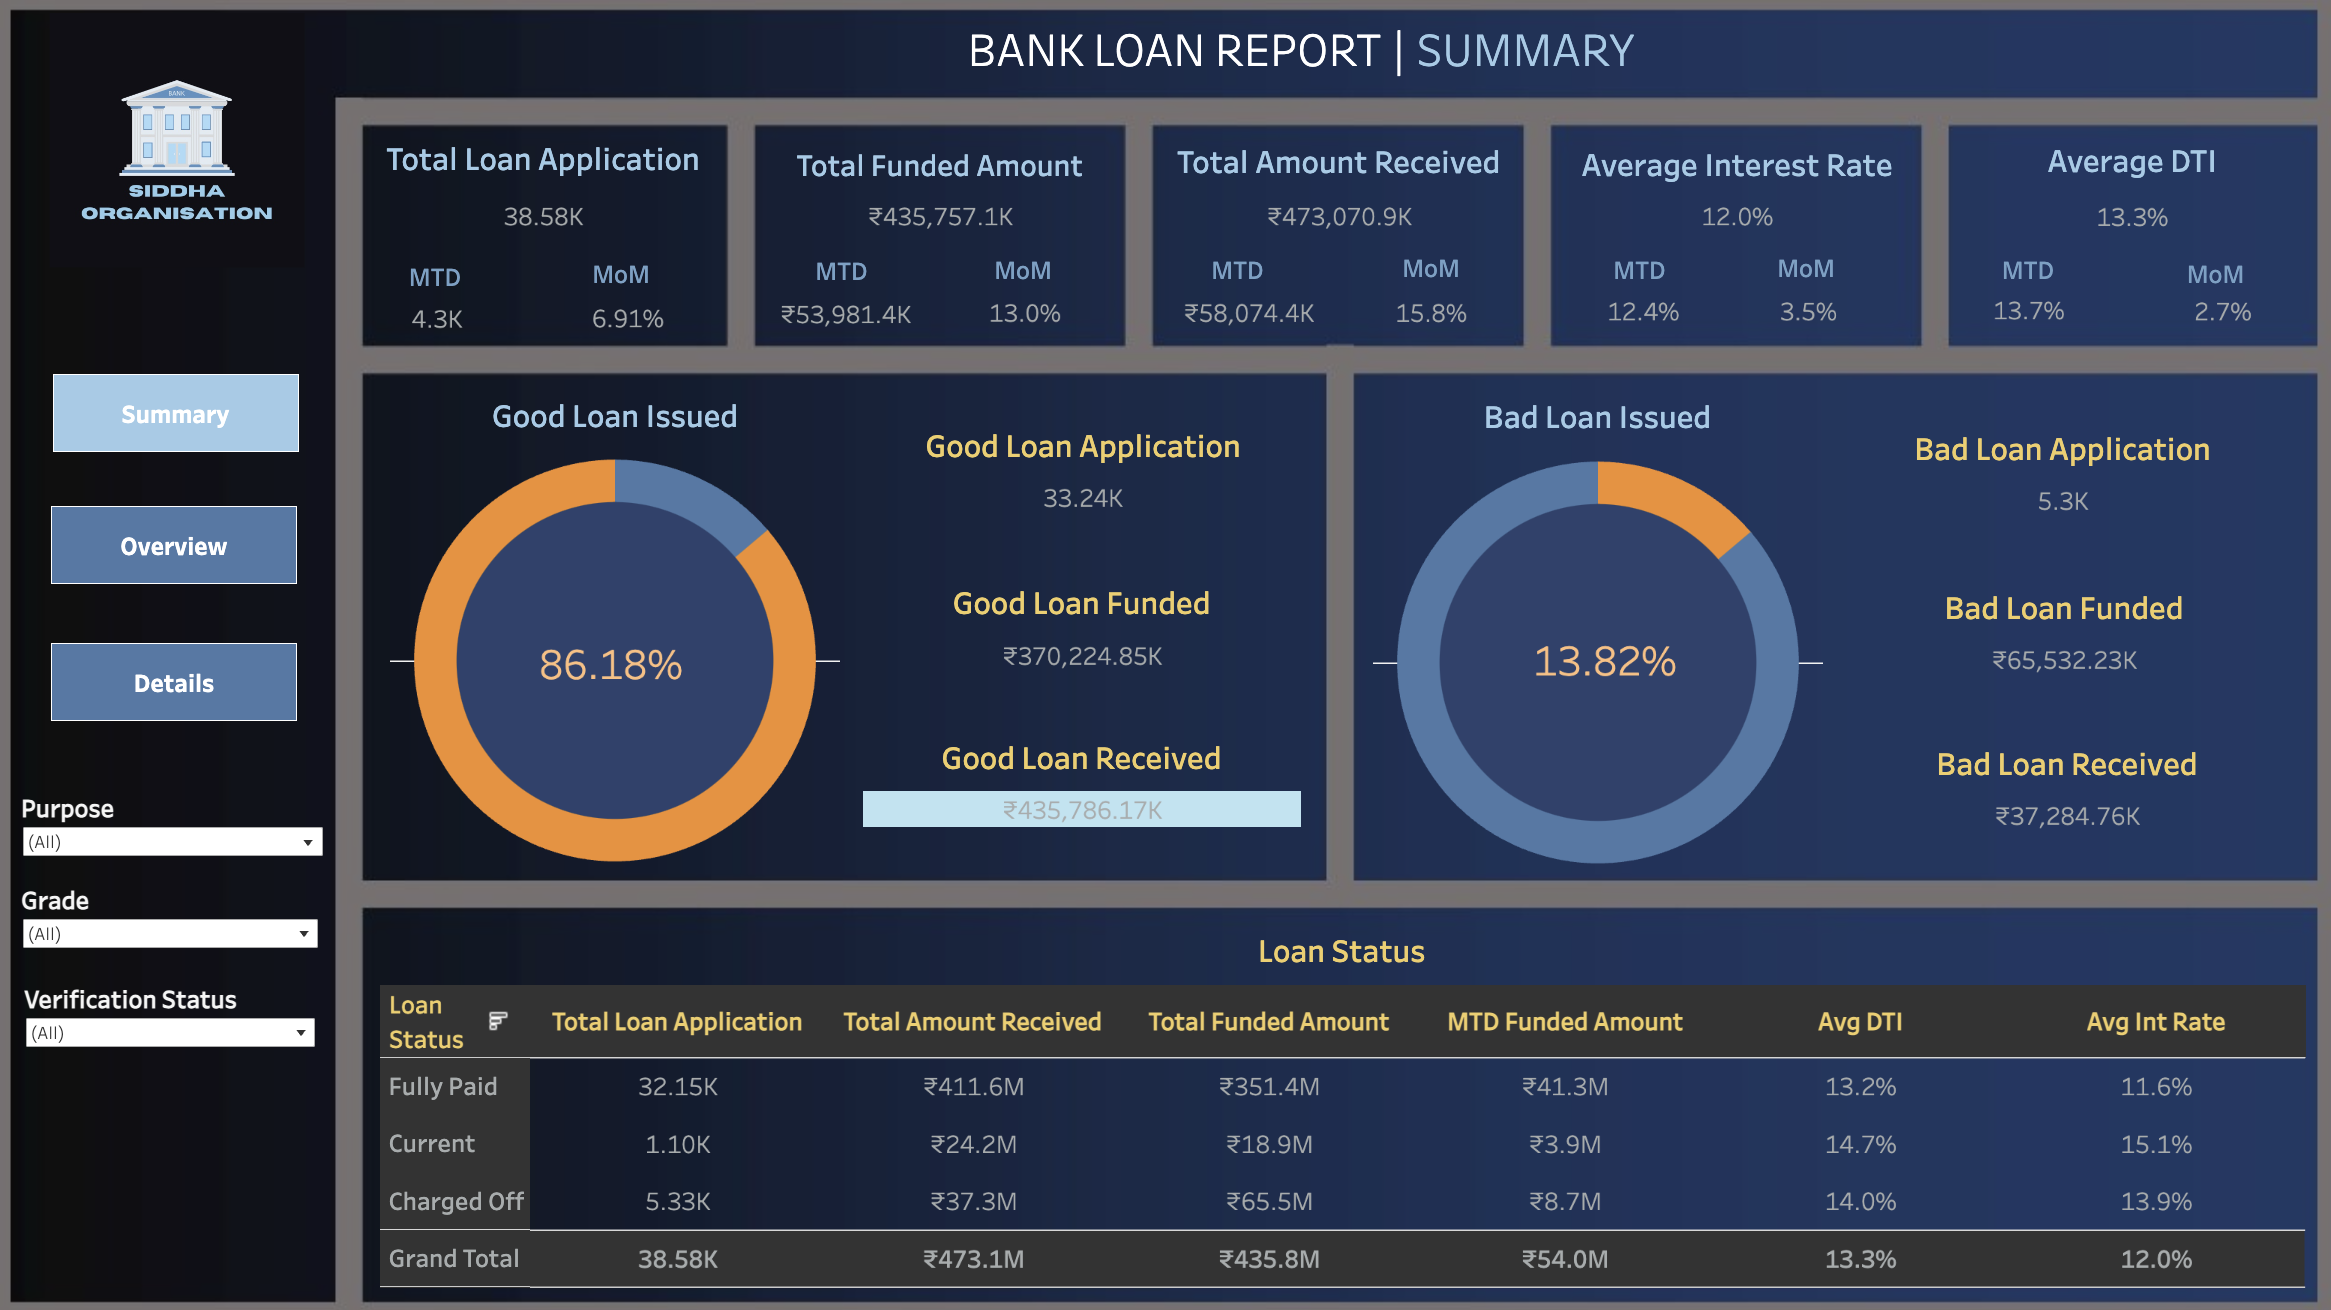

This screenshot's page, from the dashboard's own definition file:
{"tool":"tableau","page":{"name":"SUMMARY","canvas":[1600,900],"ordinal":2},"visuals":[{"type":"text","box":[669,3,472,83]},{"type":"image","param":"/Users/siddha-book/Desktop/Project/Tableau & MySQL/Bank DB/Tableau Background 1.","box":[8,8,1584,884]},{"type":"image","param":"/var/folders/b9/rlx5fb8s2bv4ntbjwkrjx67c0000gn/T/tableau-temp/0pvtmrl12g18om15eo","box":[13,21,258,170]},{"type":"worksheet","title":"Total Loan Applications","mark":"Automatic","box":[269,98,234,73]},{"type":"worksheet","title":"Average DTI","mark":"Automatic","box":[1330,99,231,72]},{"type":"worksheet","title":"Total Amount Received","mark":"Automatic","box":[797,100,239,69]},{"type":"worksheet","title":"Average Interest Rate","mark":"Automatic","box":[1063,102,238,65]},{"type":"worksheet","title":"Total Funded Amount","mark":"Automatic","box":[533,103,235,64]},{"type":"text","box":[932,177,92,28]},{"type":"text","box":[1182,177,92,28]},{"type":"text","box":[660,178,92,28]},{"type":"text","box":[803,178,92,28]},{"type":"text","box":[1071,178,92,28]},{"type":"text","box":[1330,178,92,28]},{"type":"text","box":[539,179,92,28]},{"type":"text","box":[392,181,92,28]},{"type":"text","box":[1455,181,92,28]},{"type":"text","box":[268,183,92,28]},{"type":"worksheet","title":"MTD Amount Received","mark":"Automatic","box":[795,198,109,45]},{"type":"worksheet","title":"MTD Avg DTI","mark":"Automatic","box":[1329,198,95,42]},{"type":"worksheet","title":"MTD Funded Amount","mark":"Automatic","box":[523,201,112,41]},{"type":"worksheet","title":"MoM Funded Amount","mark":"Automatic","box":[673,201,62,39]},{"type":"worksheet","title":"MoM Avg Int Rate","mark":"Automatic","box":[1191,202,77,35]},{"type":"worksheet","title":"MoM Amount Received","mark":"Automatic","box":[947,204,59,33]},{"type":"worksheet","title":"MTD Avg Int Rate","mark":"Automatic","box":[1086,204,67,31]},{"type":"worksheet","title":"MoM Avg DTI ","mark":"Automatic","box":[1466,206,80,27]},{"type":"worksheet","title":"MoM Loan Applications","mark":"Automatic","box":[408,209,69,30]},{"type":"worksheet","title":"MTD Total Loan Applications","mark":"Automatic","box":[287,211,56,27]},{"type":"dashboard-object","box":[59,262,164,52]},{"type":"worksheet","title":"Good Loan Issued","mark":"Pie","rows":["Calculation_4933974928804544514","Calculation_4933974928804544514"],"box":[284,269,300,325]},{"type":"worksheet","title":"Bad Loan Issued","mark":"Pie","rows":["Calculation_4933974928804544514","Calculation_4933974928804544514"],"box":[939,270,300,325]},{"type":"worksheet","title":"Good Loan Application","mark":"Automatic","box":[596,285,300,75]},{"type":"worksheet","title":"Bad Loan Application","mark":"Automatic","box":[1249,287,300,75]},{"type":"dashboard-object","box":[58,350,164,52]},{"type":"worksheet","title":"Good Loan Funded","mark":"Automatic","box":[595,390,300,75]},{"type":"worksheet","title":"Bad Loan Funded","mark":"Automatic","box":[1250,393,300,75]},{"type":"worksheet","title":"Good Loan Percentage","mark":"Automatic","box":[364,425,136,58]},{"type":"worksheet","title":"Bad Loan Percentage","mark":"Automatic","box":[1025,428,139,48]},{"type":"dashboard-object","box":[58,441,164,52]},{"type":"worksheet","title":"Good Loan Received","mark":"Automatic","box":[595,493,300,75]},{"type":"worksheet","title":"Bad Loan Received","mark":"Automatic","box":[1252,497,300,75]},{"type":"filter","title":"Good Loan Issued","param":"[federated.0odvdjq1xztk10133fcxv1o72r81].[none:purpose:nk]","box":[38,540,202,52]},{"type":"filter","title":"Good Loan Issued","param":"[federated.0odvdjq1xztk10133fcxv1o72r81].[none:grade:nk]","box":[38,601,199,54]},{"type":"worksheet","title":"Loan Status","mark":"Automatic","rows":["loan_status"],"box":[277,626,1284,245]},{"type":"filter","title":"Good Loan Issued","param":"[federated.0odvdjq1xztk10133fcxv1o72r81].[none:verification_status:nk]","box":[40,667,195,47]}]}

Visuals, with their boxes in screenshot pixels (x1, y1, x2, y2), scaled from the page's 1600x900 canvas onto the 2331x1310 screenshot:
text: x1=975 y1=4 x2=1662 y2=125
image: x1=12 y1=12 x2=2319 y2=1298
image: x1=19 y1=31 x2=395 y2=278
"Total Loan Applications" worksheet: x1=392 y1=143 x2=733 y2=249
"Average DTI" worksheet: x1=1938 y1=144 x2=2274 y2=249
"Total Amount Received" worksheet: x1=1161 y1=146 x2=1509 y2=246
"Average Interest Rate" worksheet: x1=1549 y1=148 x2=1895 y2=243
"Total Funded Amount" worksheet: x1=777 y1=150 x2=1119 y2=243
text: x1=1358 y1=258 x2=1492 y2=298
text: x1=1722 y1=258 x2=1856 y2=298
text: x1=962 y1=259 x2=1096 y2=300
text: x1=1170 y1=259 x2=1304 y2=300
text: x1=1560 y1=259 x2=1694 y2=300
text: x1=1938 y1=259 x2=2072 y2=300
text: x1=785 y1=261 x2=919 y2=301
text: x1=571 y1=263 x2=705 y2=304
text: x1=2120 y1=263 x2=2254 y2=304
text: x1=390 y1=266 x2=524 y2=307
"MTD Amount Received" worksheet: x1=1158 y1=288 x2=1317 y2=354
"MTD Avg DTI" worksheet: x1=1936 y1=288 x2=2075 y2=349
"MTD Funded Amount" worksheet: x1=762 y1=293 x2=925 y2=352
"MoM Funded Amount" worksheet: x1=980 y1=293 x2=1071 y2=349
"MoM Avg Int Rate" worksheet: x1=1735 y1=294 x2=1847 y2=345
"MoM Amount Received" worksheet: x1=1380 y1=297 x2=1466 y2=345
"MTD Avg Int Rate" worksheet: x1=1582 y1=297 x2=1680 y2=342
"MoM Avg DTI " worksheet: x1=2136 y1=300 x2=2252 y2=339
"MoM Loan Applications" worksheet: x1=594 y1=304 x2=695 y2=348
"MTD Total Loan Applications" worksheet: x1=418 y1=307 x2=500 y2=346
dashboard-object: x1=86 y1=381 x2=325 y2=457
"Good Loan Issued" worksheet (Pie marks): x1=414 y1=392 x2=851 y2=865
"Bad Loan Issued" worksheet (Pie marks): x1=1368 y1=393 x2=1805 y2=866
"Good Loan Application" worksheet: x1=868 y1=415 x2=1305 y2=524
"Bad Loan Application" worksheet: x1=1820 y1=418 x2=2257 y2=527
dashboard-object: x1=84 y1=509 x2=323 y2=585
"Good Loan Funded" worksheet: x1=867 y1=568 x2=1304 y2=677
"Bad Loan Funded" worksheet: x1=1821 y1=572 x2=2258 y2=681
"Good Loan Percentage" worksheet: x1=530 y1=619 x2=728 y2=703
"Bad Loan Percentage" worksheet: x1=1493 y1=623 x2=1696 y2=693
dashboard-object: x1=84 y1=642 x2=323 y2=718
"Good Loan Received" worksheet: x1=867 y1=718 x2=1304 y2=827
"Bad Loan Received" worksheet: x1=1824 y1=723 x2=2261 y2=833
"Good Loan Issued" filter: x1=55 y1=786 x2=350 y2=862
"Good Loan Issued" filter: x1=55 y1=875 x2=345 y2=953
"Loan Status" worksheet: x1=404 y1=911 x2=2274 y2=1268
"Good Loan Issued" filter: x1=58 y1=971 x2=342 y2=1039
